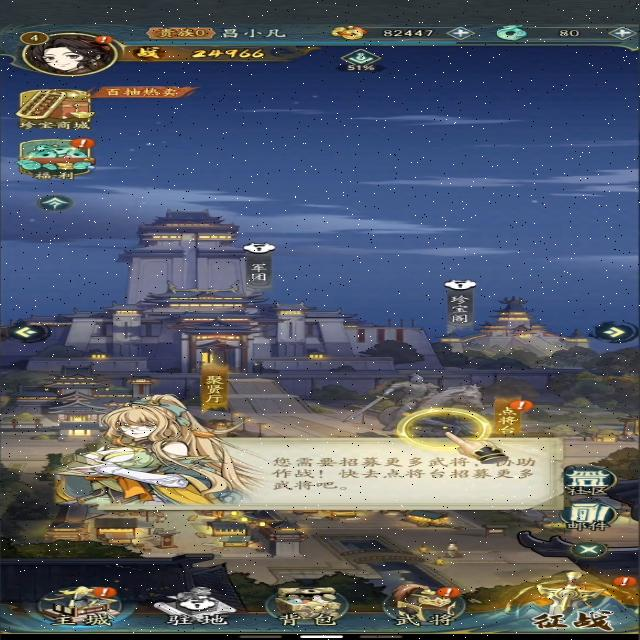hint-guide: (74, 400, 564, 515), (388, 404, 510, 467)
hint-reddot: (429, 583, 466, 602), (508, 398, 540, 417), (602, 574, 640, 590), (89, 584, 122, 600), (84, 32, 119, 46), (70, 136, 97, 153)
navigation-bag: (259, 581, 361, 632)
navigation-community: (553, 462, 617, 497)
navigation-dianjiangtai: (490, 395, 536, 439)
navigation-fight: (490, 568, 640, 633)
navigation-hero: (376, 579, 478, 633)
navigation-juntuan-off: (237, 238, 283, 289)
navigation-juxianting: (199, 357, 234, 410)
navigation-mail: (544, 500, 627, 535)
navigation-main: (26, 580, 130, 630)
navigation-role: (15, 24, 129, 80)
navigation-station-off: (144, 582, 243, 629)
navigation-treasureMall: (12, 85, 100, 132)
navigation-welfare: (12, 136, 106, 182)
navigation-zhenbaoge-off: (441, 276, 480, 330)
operation-close: (564, 538, 610, 562)
